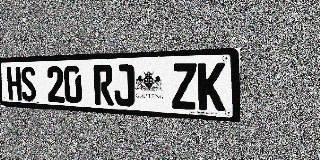0: (63, 66, 82, 104)
2: (47, 66, 64, 103)
H: (7, 67, 22, 101)
J: (113, 64, 135, 107)
K: (198, 62, 225, 111)
R: (93, 65, 114, 106)
S: (20, 66, 37, 101)
Z: (172, 63, 197, 110)
